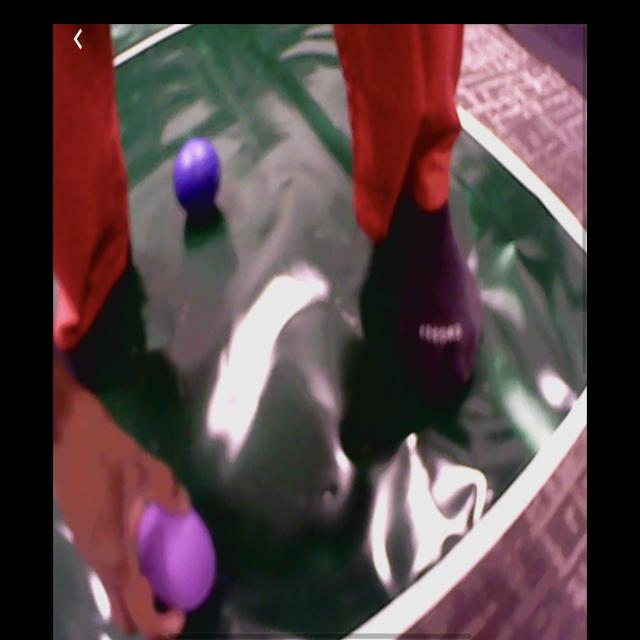ball: (137, 500, 218, 614), (174, 137, 222, 213)
